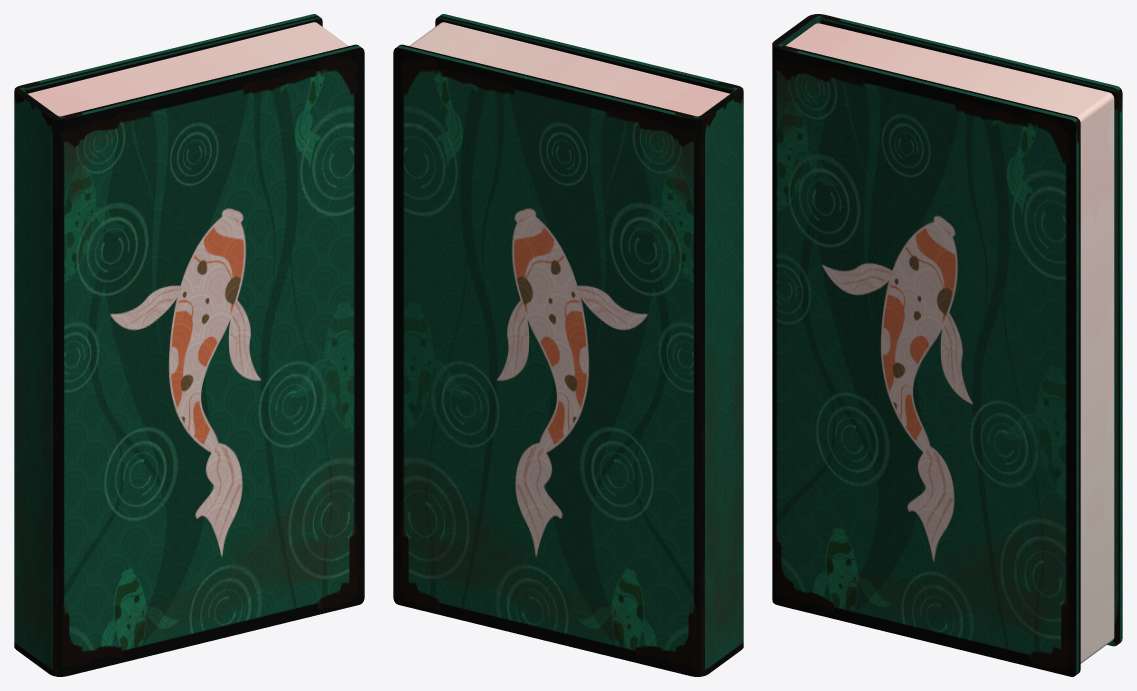
Rendered from SM_Book01.fbx.
3 renders of one model, left to right at view 1: azimuth 30°, elevation 25°; view 2: azimuth 150°, elevation 25°; view 3: azimuth 330°, elevation 25°, orthographic.
Parts seen in each view (by area): view 1: SM_Book01_LOD0; view 2: SM_Book01_LOD0; view 3: SM_Book01_LOD0.
Part boxes in pixels (left/top/right/bottom): SM_Book01_LOD0: left=14, top=14, right=364, bottom=676; SM_Book01_LOD0: left=393, top=14, right=743, bottom=676; SM_Book01_LOD0: left=772, top=14, right=1122, bottom=676.
Size of the model in its own units: 18.55 by 4.8 by 32.
1 material, 1 textured.
